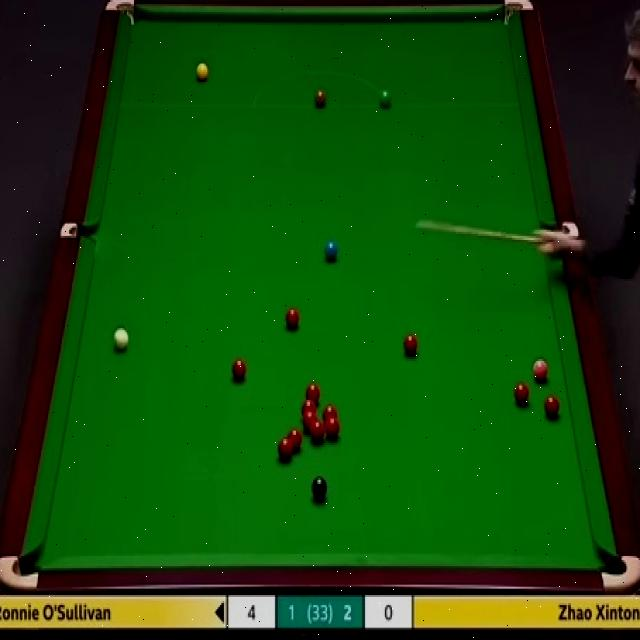black-ball: (310, 476, 328, 498)
blue-ball: (323, 240, 340, 262)
brown-ball: (313, 88, 326, 108)
green-ball: (378, 90, 392, 109)
pink-ball: (531, 358, 550, 382)
red-ball: (543, 393, 560, 418), (278, 436, 294, 461), (514, 380, 529, 406), (285, 306, 300, 331), (287, 427, 302, 452), (402, 333, 418, 355), (326, 415, 340, 440), (231, 357, 246, 379), (305, 382, 320, 404), (310, 420, 324, 442), (300, 399, 316, 417), (303, 411, 316, 432), (322, 404, 339, 419)
white-ball: (113, 327, 129, 353)
yellow-ball: (196, 62, 208, 84)
